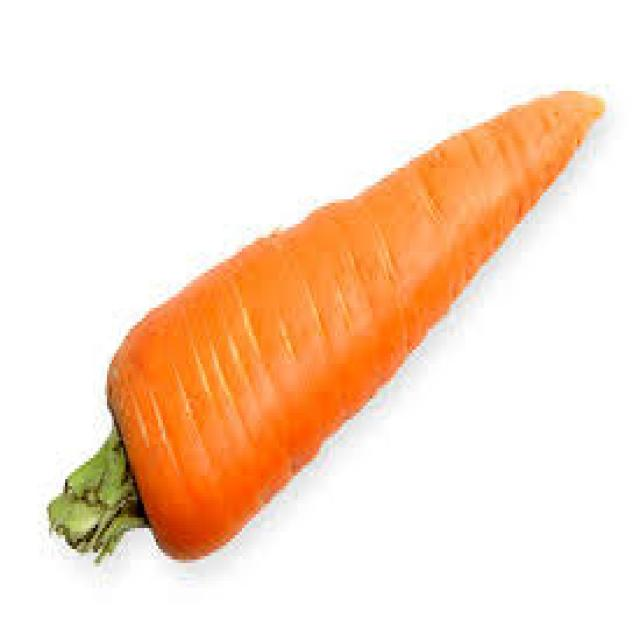carrot: (101, 84, 605, 575)
